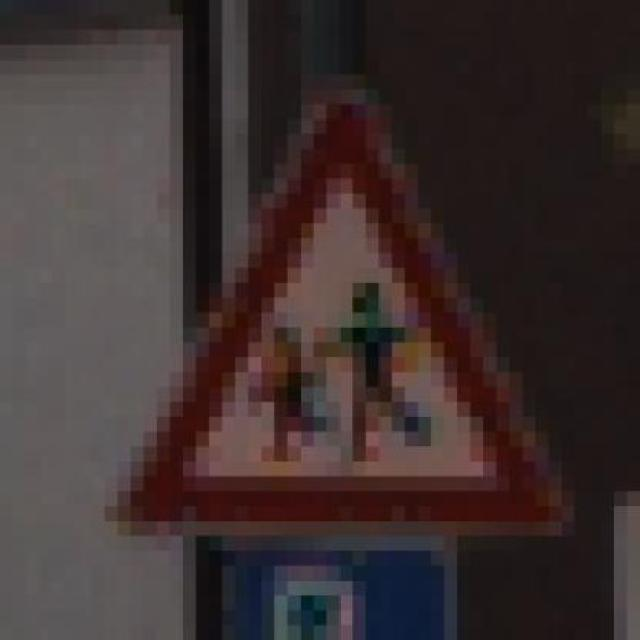Beware of children: (91, 75, 574, 550)
